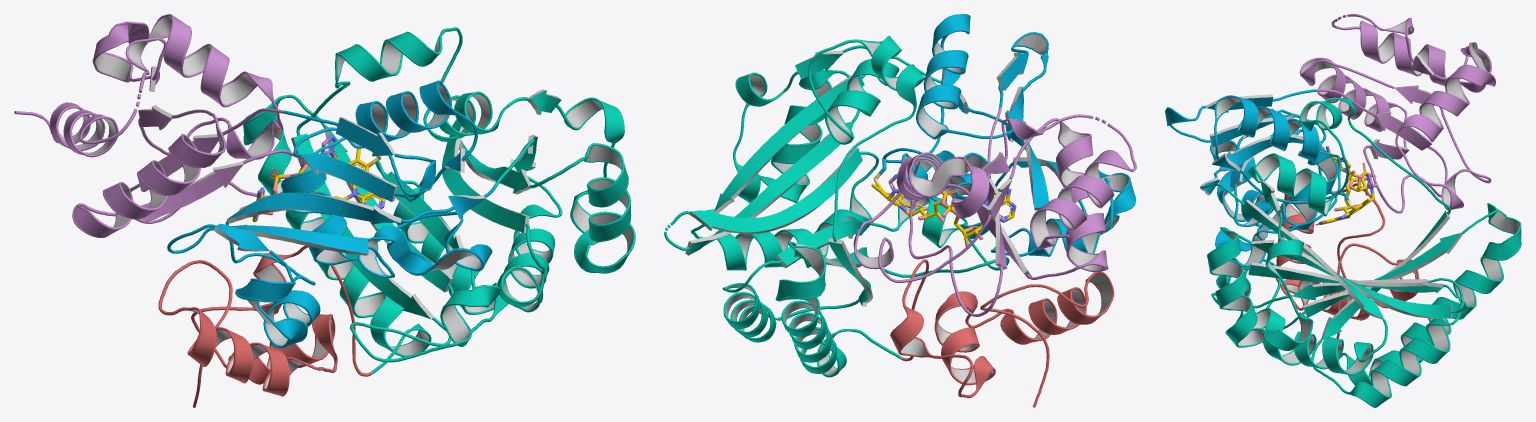
File: BBE15overview.gltf
The picture shows the model from 3 angles, left to right: view 1: azimuth 30°, elevation 25°; view 2: azimuth 150°, elevation 25°; view 3: azimuth 270°, elevation 25°; orthographic projection. The views are drawn at different scales.
Visible parts, largest first — view 1: node-geom184, node-geom185, node-geom183, node-geom186, node-geom187; view 2: node-geom185, node-geom183, node-geom186, node-geom184, node-geom187; view 3: node-geom185, node-geom186, node-geom183, node-geom184, node-geom187.
Part boxes in pixels (box(x1,y1,x2,y2)): node-geom184: box(130, 80, 492, 348); node-geom185: box(226, 89, 635, 312); node-geom183: box(14, 14, 304, 237); node-geom186: box(243, 27, 508, 362); node-geom187: box(158, 95, 419, 407); node-geom185: box(664, 45, 1049, 270); node-geom183: box(853, 114, 1136, 316); node-geom186: box(722, 36, 1009, 376); node-geom184: box(883, 14, 1135, 316); node-geom187: box(779, 245, 1114, 407); node-geom185: box(1200, 134, 1466, 375); node-geom186: box(1211, 97, 1521, 407); node-geom183: box(1299, 14, 1496, 213); node-geom184: box(1165, 89, 1441, 267); node-geom187: box(1275, 183, 1521, 384).
Bounding box in the file's own units: 65.48 × 45.39 × 52.85.
